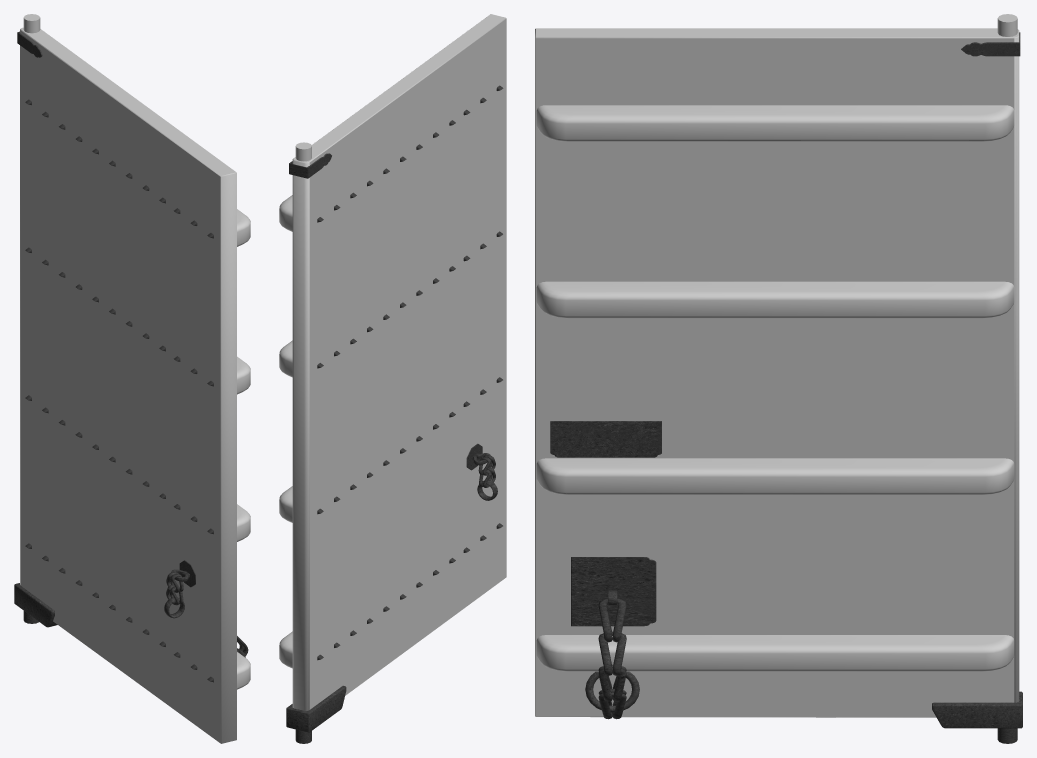
File: SM_SJJ_HG_Door03A_03.fbx
The picture shows the model from 3 angles, left to right: view 1: azimuth 30°, elevation 25°; view 2: azimuth 150°, elevation 25°; view 3: azimuth 270°, elevation 25°; orthographic projection. The views are drawn at different scales.
Visible parts, largest first — view 1: SM_SJJ_HG_Door03A_03; view 2: SM_SJJ_HG_Door03A_03; view 3: SM_SJJ_HG_Door03A_03.
Part boxes in pixels (bbox=[...]): SM_SJJ_HG_Door03A_03: bbox=[14, 14, 250, 743]; SM_SJJ_HG_Door03A_03: bbox=[279, 14, 506, 743]; SM_SJJ_HG_Door03A_03: bbox=[535, 14, 1022, 743].
Size of the model in its own units: 27.93 by 123 by 202.
